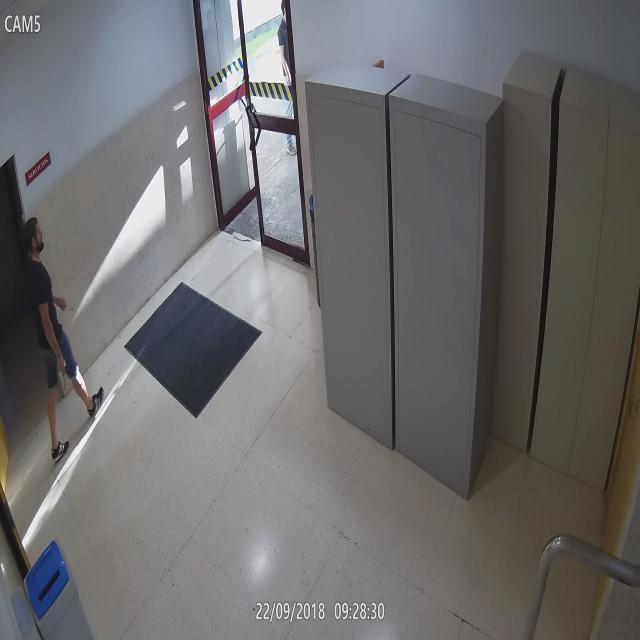weapon: (56, 357, 74, 377)
